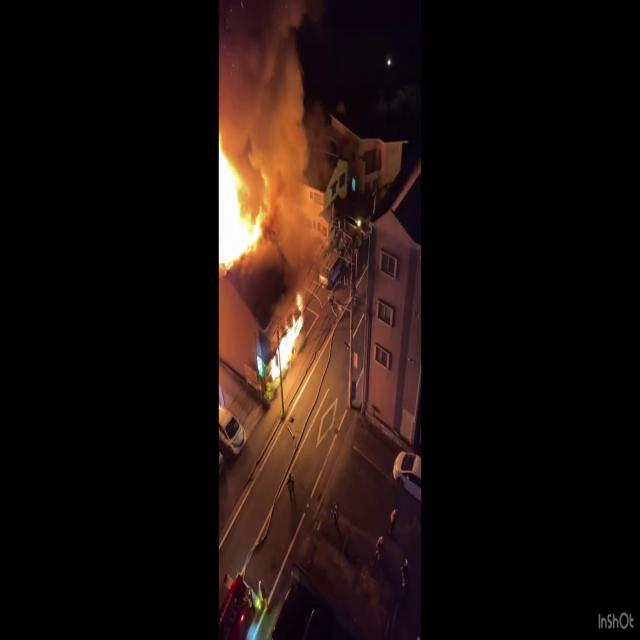Fire: (219, 129, 273, 275), (266, 293, 308, 394)
Smoke: (218, 0, 319, 180)
